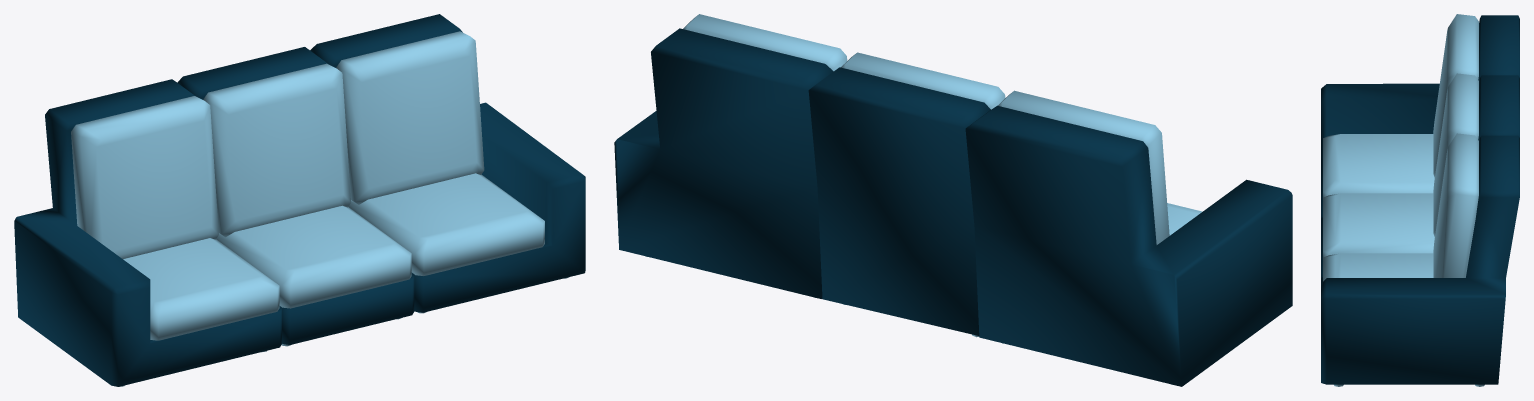
File: Sofa.FBX
The picture shows the model from 3 angles, left to right: view 1: azimuth 30°, elevation 25°; view 2: azimuth 150°, elevation 25°; view 3: azimuth 270°, elevation 25°; orthographic projection. The views are drawn at different scales.
Parts seen in each view (by area): view 1: Sofa; view 2: Sofa; view 3: Sofa.
Part boxes in pixels (bbox=[...]): Sofa: bbox=[14, 14, 585, 386]; Sofa: bbox=[614, 14, 1292, 386]; Sofa: bbox=[1321, 14, 1519, 386].
Size of the model in its own units: 3.67 by 1.48 by 1.45.
